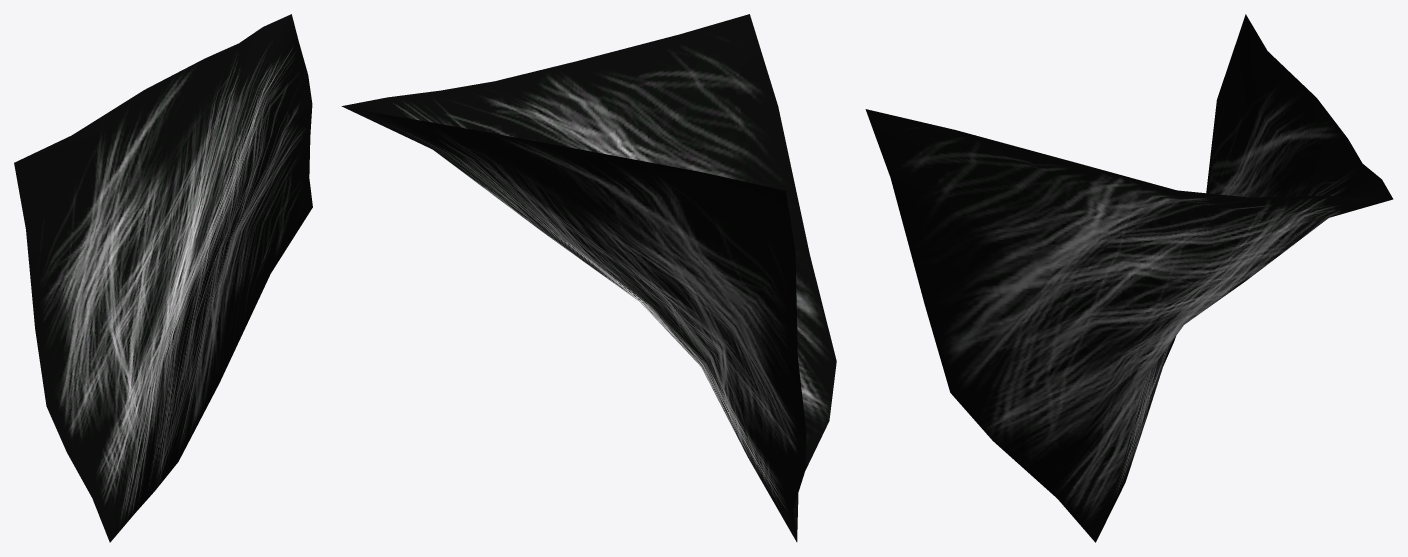
Rendered from SWORDLIGHT20_PS-AREA01_CORNERWEB24.fbx.
3 renders of one model, left to right at view 1: azimuth 30°, elevation 25°; view 2: azimuth 150°, elevation 25°; view 3: azimuth 270°, elevation 25°, orthographic. The views are drawn at different scales.
Parts seen in each view (by area): view 1: SWORDLIGHT20_PS-AREA01_CORNERWEB24; view 2: SWORDLIGHT20_PS-AREA01_CORNERWEB24; view 3: SWORDLIGHT20_PS-AREA01_CORNERWEB24.
Boxes of the visible parts, x1,y1,x2,y2 form: SWORDLIGHT20_PS-AREA01_CORNERWEB24: (14,14,312,542); SWORDLIGHT20_PS-AREA01_CORNERWEB24: (341,14,836,541); SWORDLIGHT20_PS-AREA01_CORNERWEB24: (865,14,1393,542).
Size of the model in its own units: 48456 by 53651 by 47369.
Materials: 1 (1 with a texture image).
